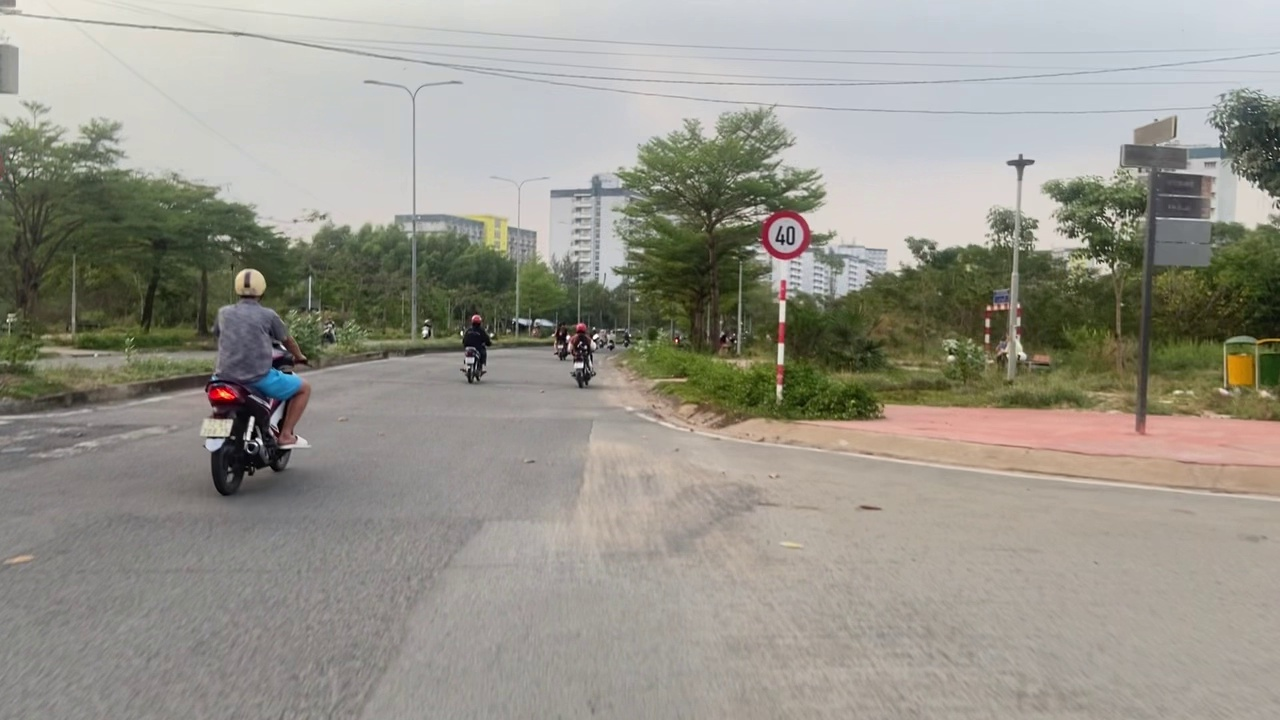gioi_han_40km: (761, 211, 811, 260)
